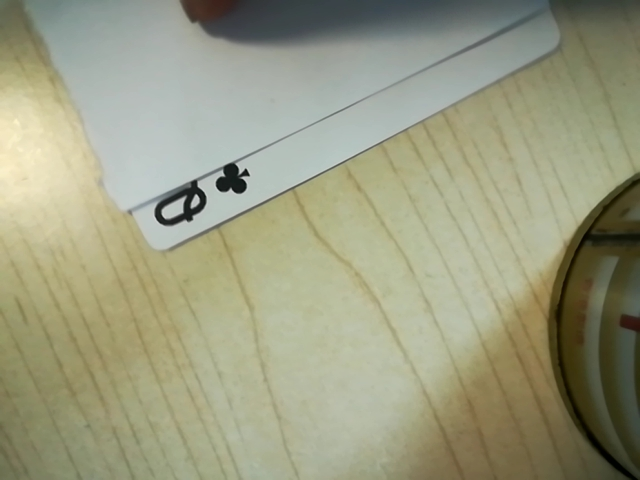mh q: (137, 153, 259, 237)
